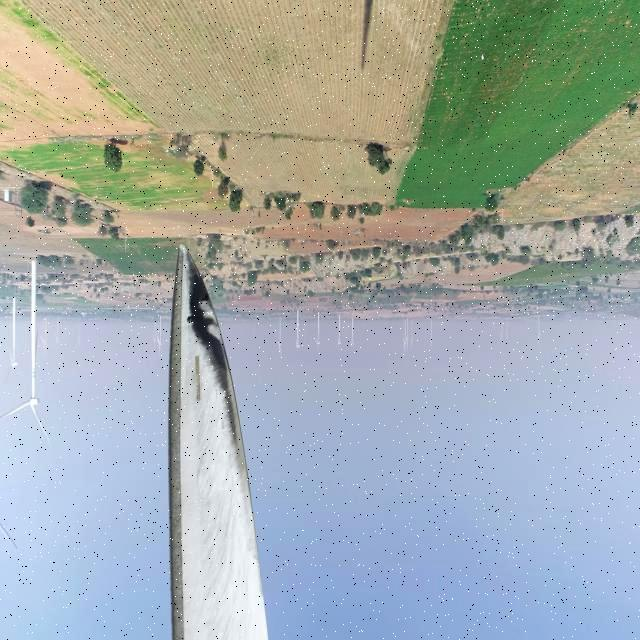Dirt: (168, 245, 268, 640)
Oil LEAKAGE: (188, 255, 244, 448)
Pin Hole: (181, 310, 193, 328)
